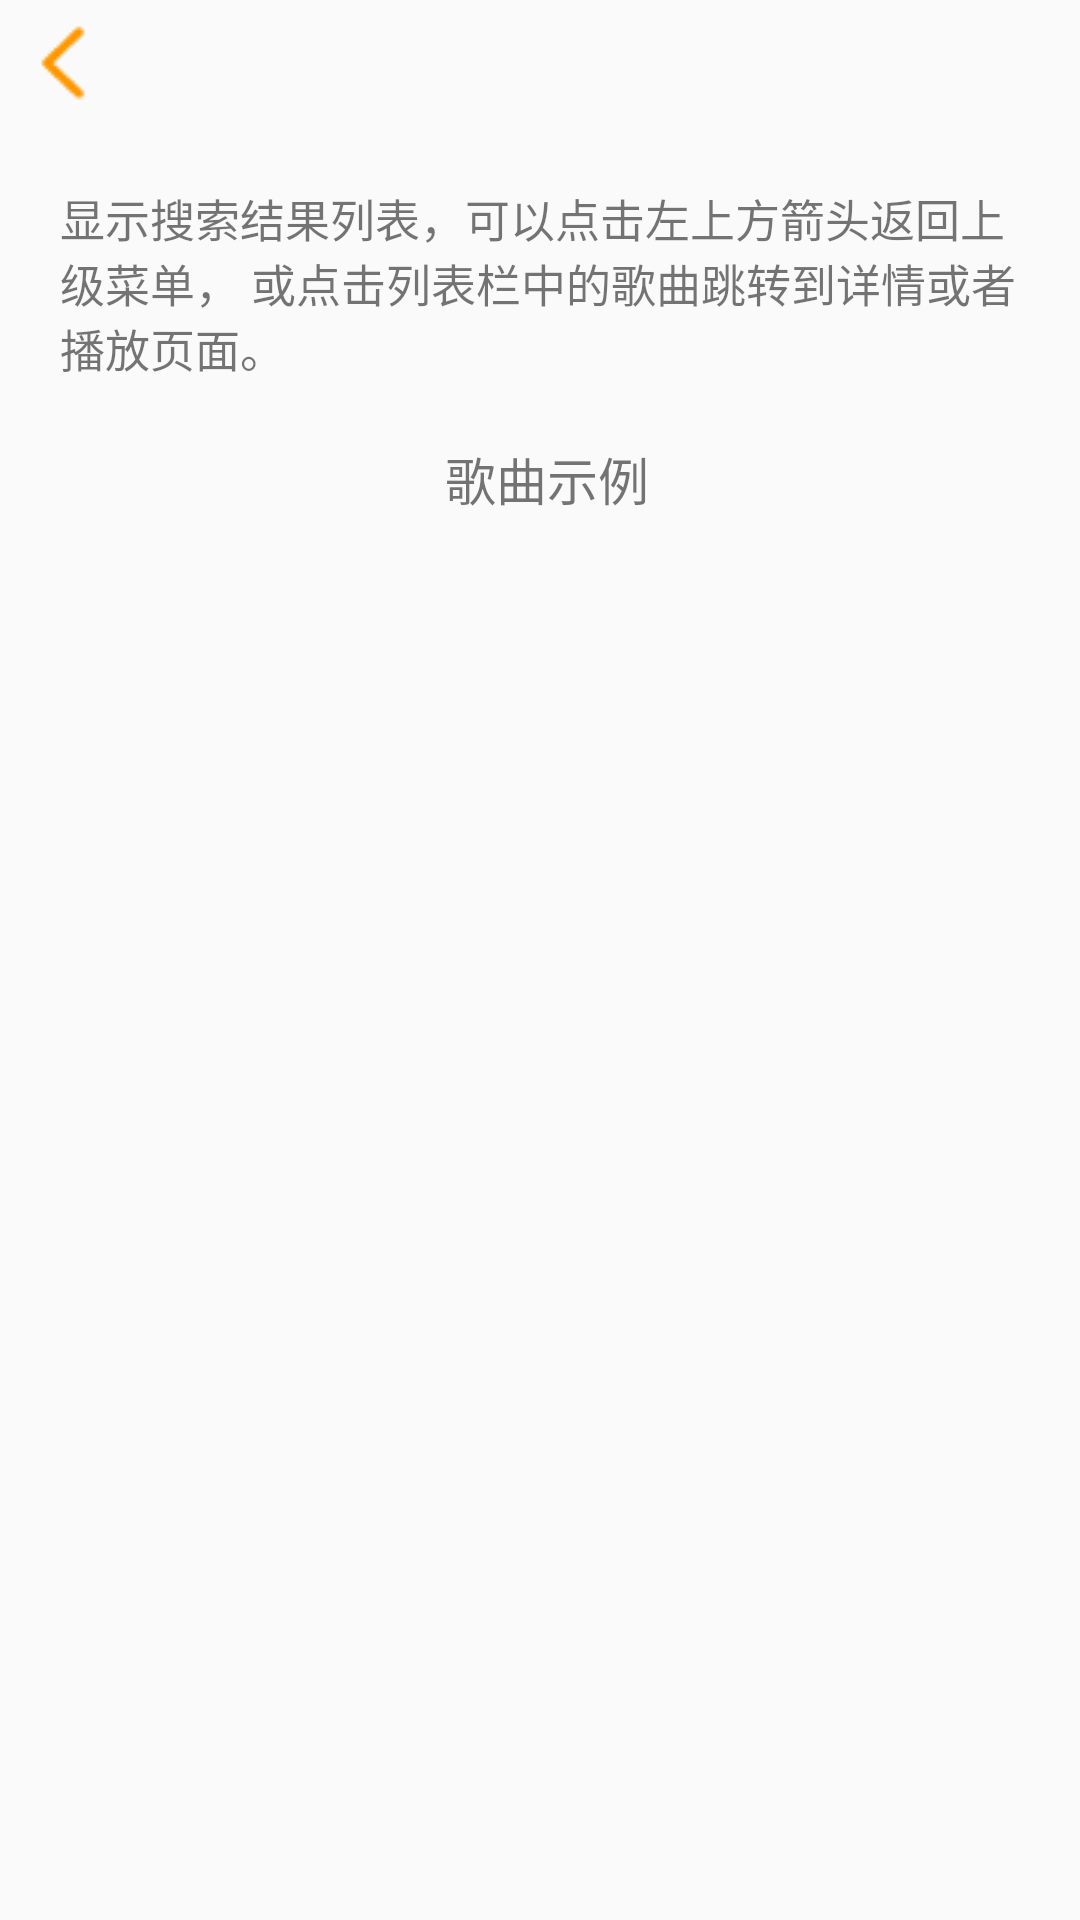

Icon click points for this 1080 x 1920 phone screenshot, format (x=x, y=y):
back arrow: (x=63, y=63)
